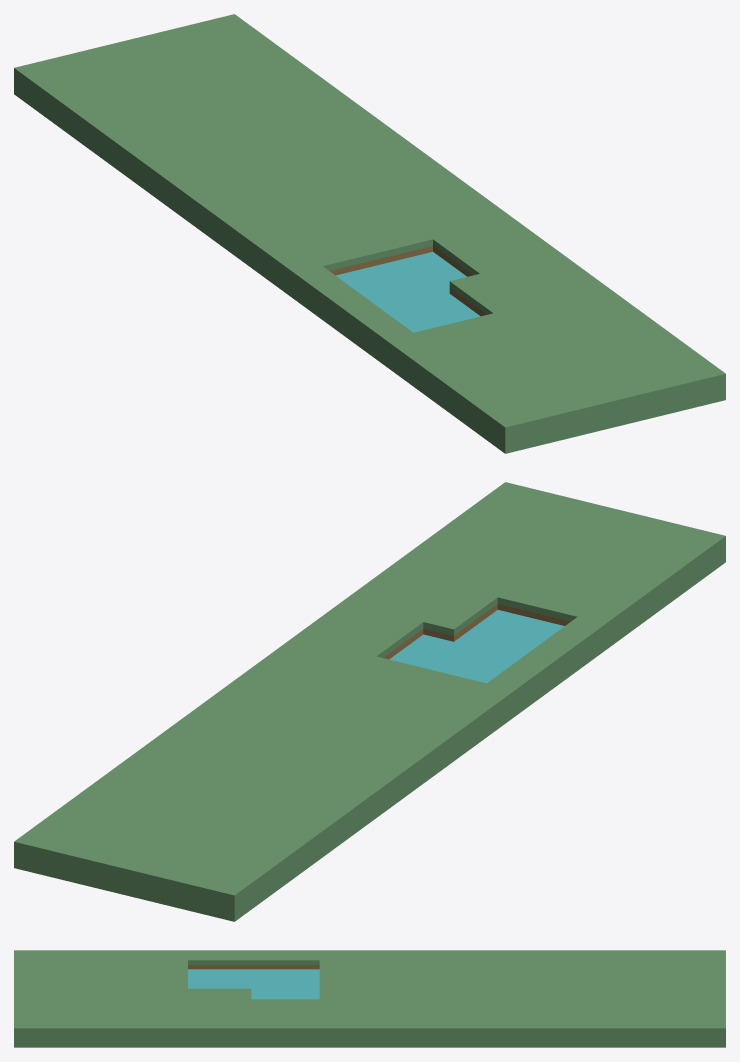
Rendered from Tile_04.fbx.
3 renders of one model, top to bottom at view 1: azimuth 30°, elevation 25°; view 2: azimuth 150°, elevation 25°; view 3: azimuth 270°, elevation 25°, orthographic. The views are drawn at different scales.
Visible parts, largest first — view 1: pCube18; view 2: pCube18; view 3: pCube18.
Boxes of the visible parts, x1=… form: pCube18: x1=14, y1=14, x2=725, y2=453; pCube18: x1=14, y1=482, x2=725, y2=921; pCube18: x1=14, y1=950, x2=725, y2=1047.
Bounding box in the file's own units: 35 × 4 × 135.
